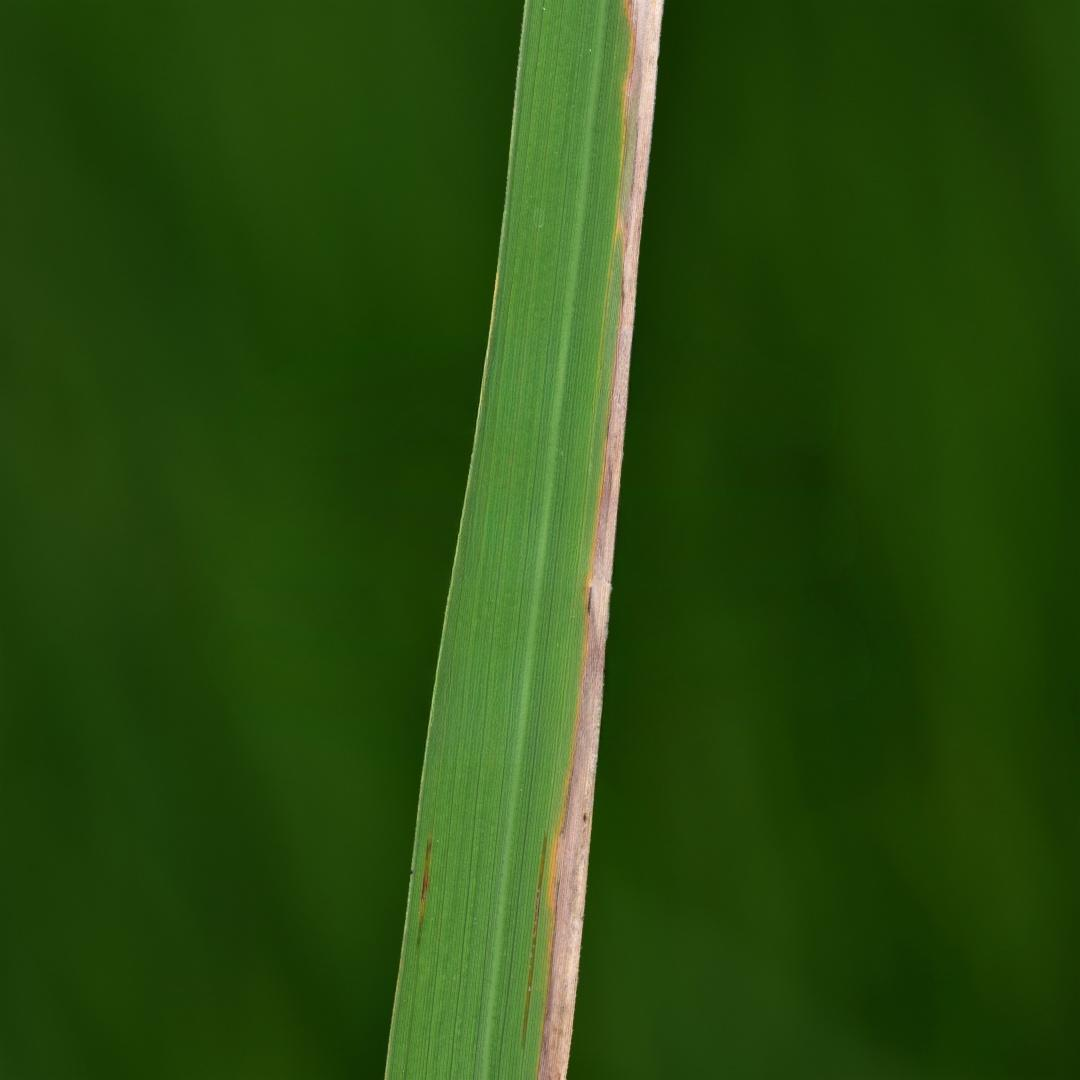BLB: (537, 1, 663, 1079)
LEAF: (386, 0, 664, 1079)
